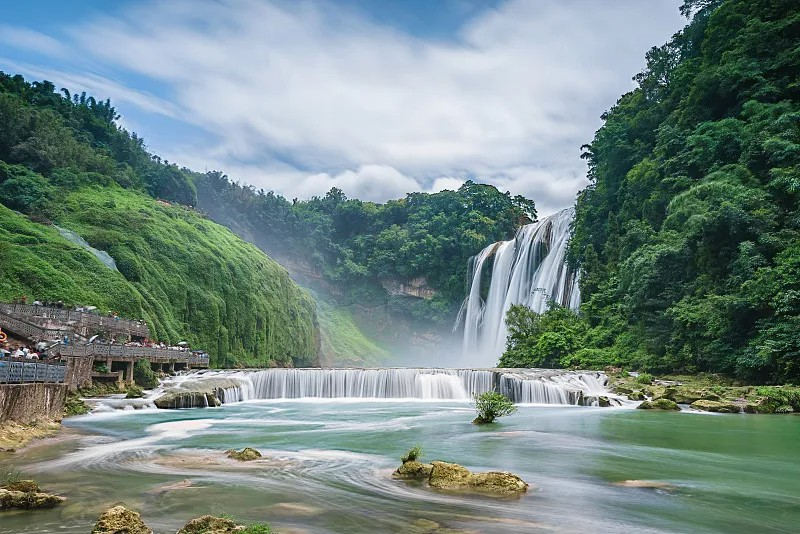Huangguoshu: (455, 207, 582, 366)
